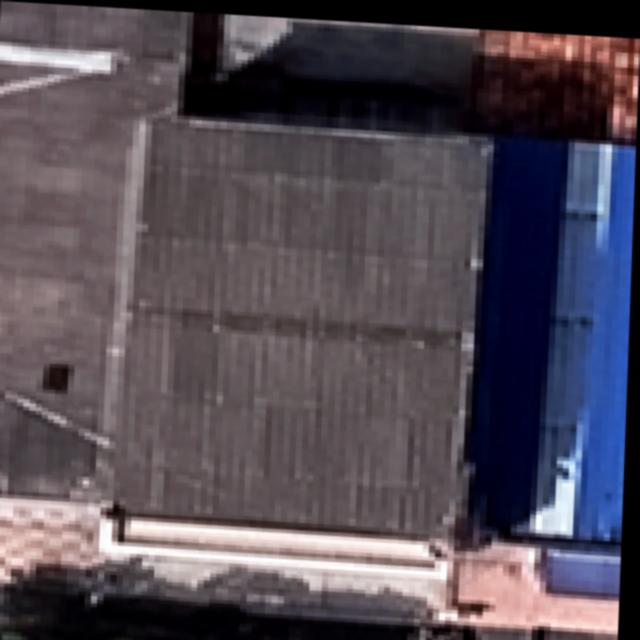Batiment: (120, 118, 486, 532)
